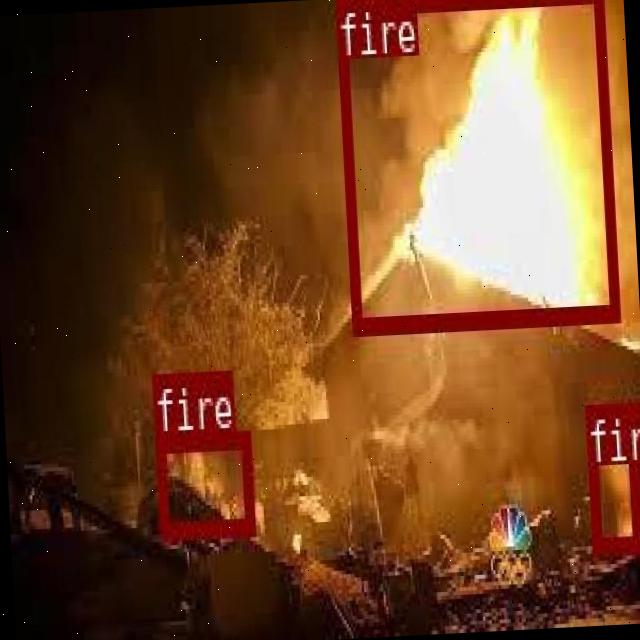fire: (334, 0, 617, 329), (155, 430, 253, 535), (584, 401, 640, 552)
